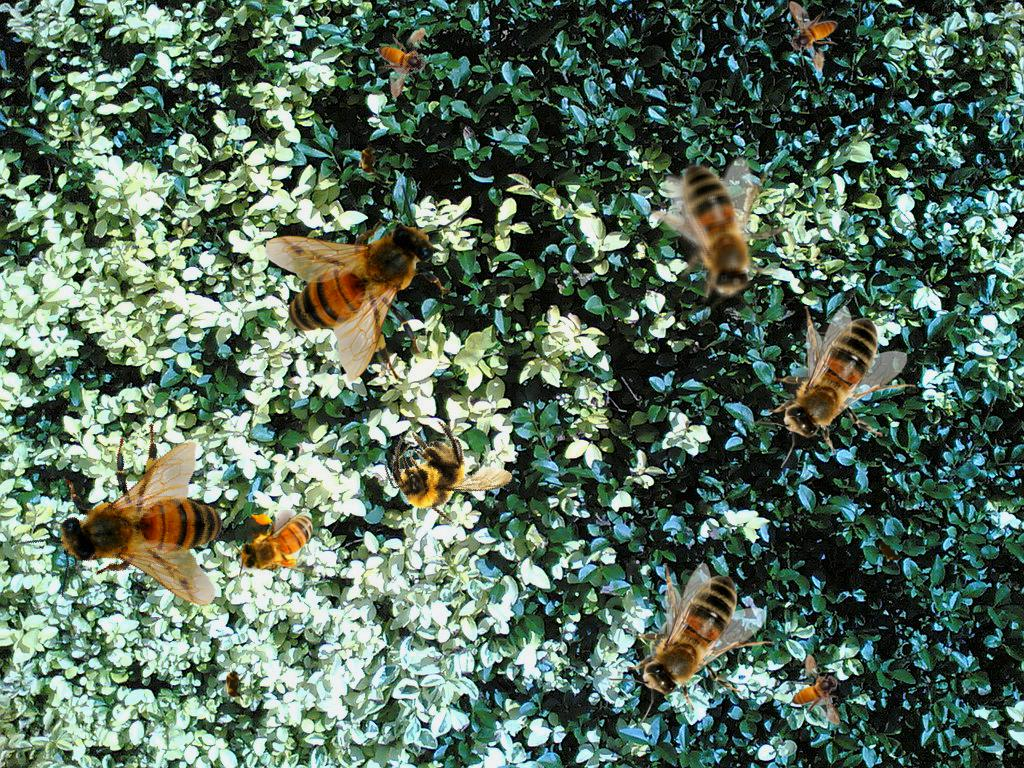Bee: (2, 390, 273, 660), (607, 119, 838, 351), (264, 183, 468, 382), (749, 306, 916, 468), (608, 563, 775, 725), (374, 400, 523, 545), (361, 14, 447, 101), (233, 510, 326, 578), (788, 1, 838, 72), (791, 654, 841, 725), (867, 529, 913, 573), (356, 139, 382, 181), (223, 664, 245, 704)
